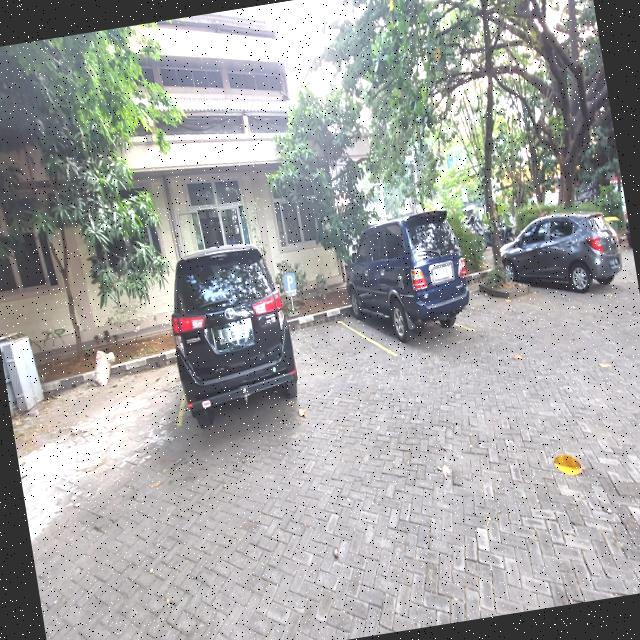empty: (290, 321, 397, 384), (466, 285, 536, 332)
occupied: (171, 244, 300, 426), (340, 213, 478, 359)
